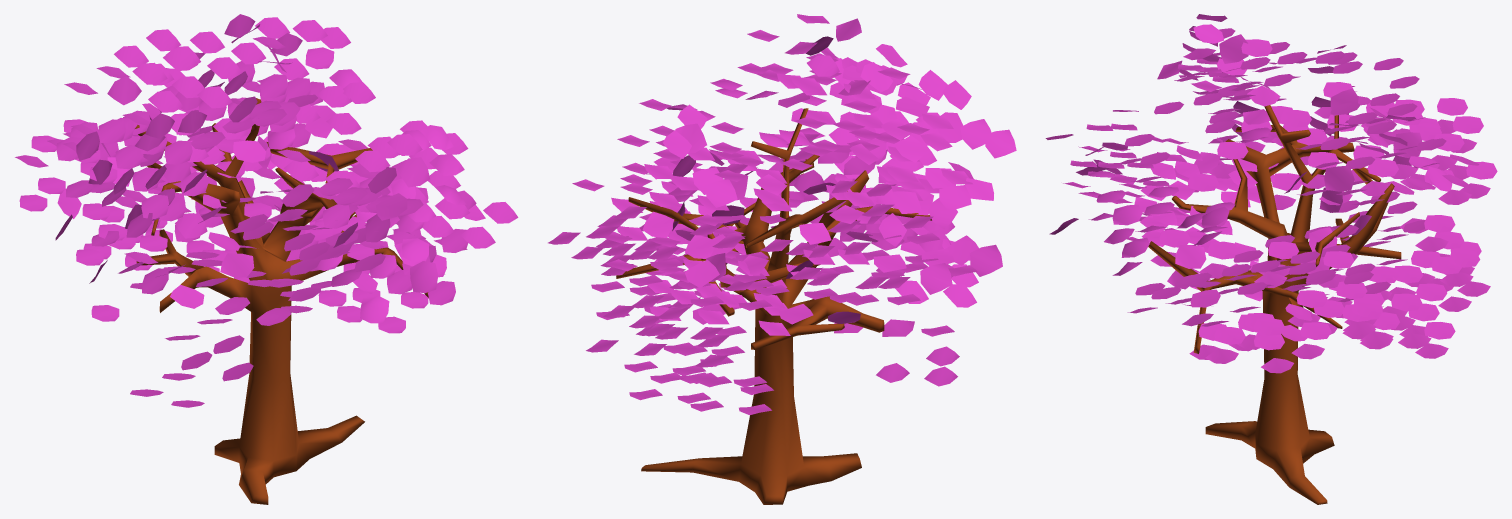
File: baum_b004.FBX
The picture shows the model from 3 angles, left to right: view 1: azimuth 30°, elevation 25°; view 2: azimuth 150°, elevation 25°; view 3: azimuth 270°, elevation 25°; orthographic projection. The views are drawn at different scales.
Parts seen in each view (by area): view 1: Baum_B004; view 2: Baum_B004; view 3: Baum_B004.
Part boxes in pixels (x1,y1,x2,y2): Baum_B004: (15, 14, 518, 504); Baum_B004: (548, 14, 1016, 504); Baum_B004: (1045, 14, 1497, 504).
Size of the model in its own units: 32.1 by 35.18 by 35.21.
